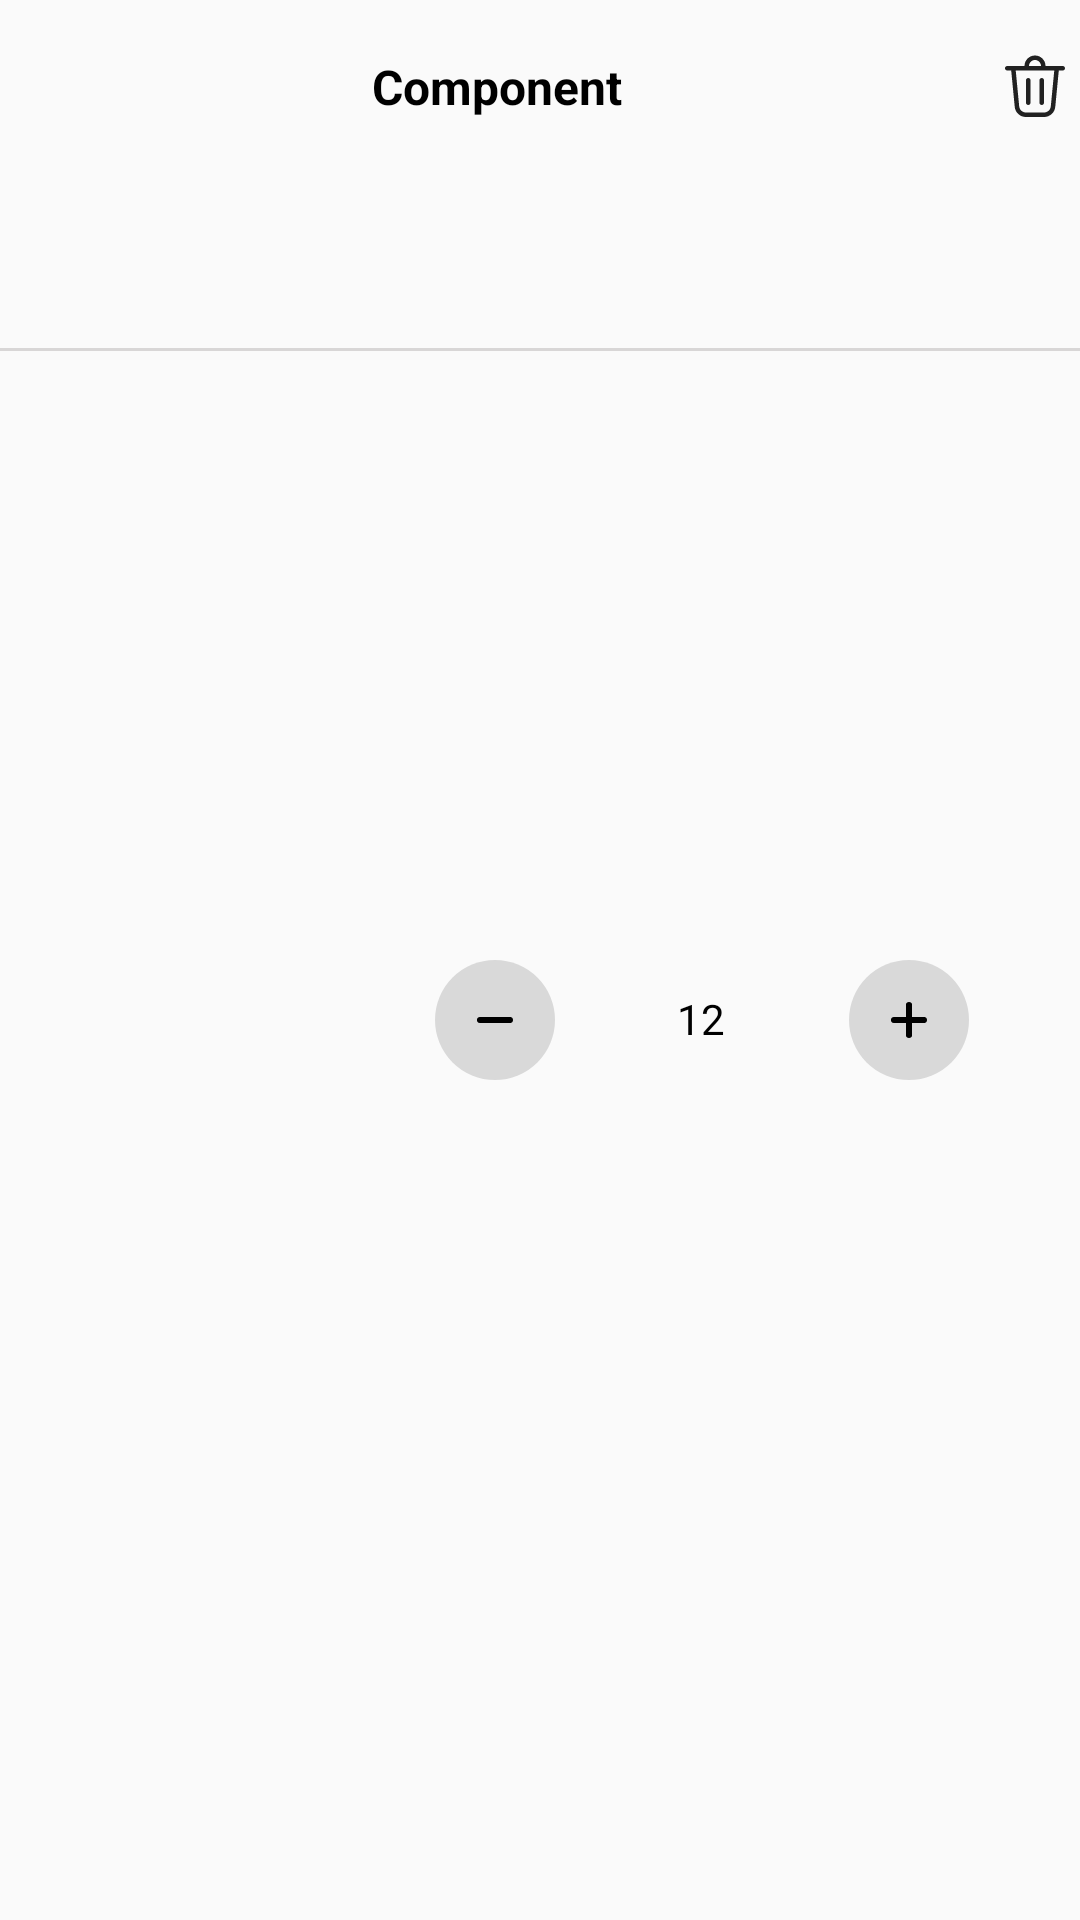

Where icons sit on this 1080x1920 app screen, as Rect(x1, y1, x2, y2):
decrement: Rect(435, 960, 555, 1080)
delete: Rect(1005, 55, 1065, 117)
increment: Rect(849, 960, 969, 1080)
